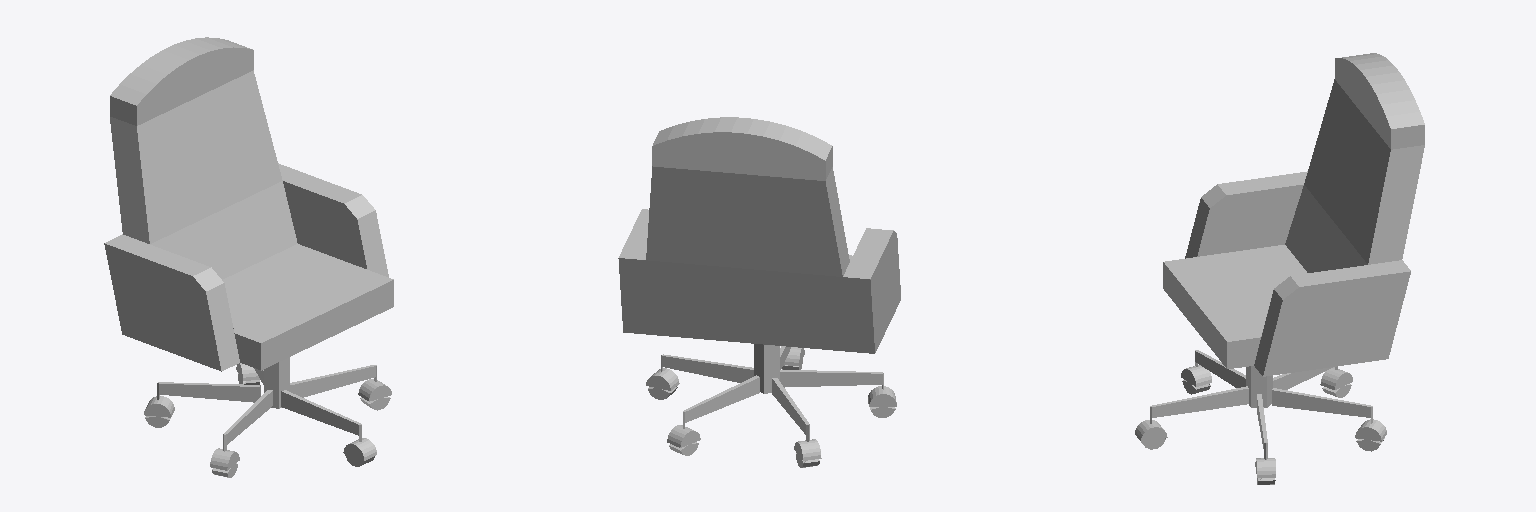
Rendered from silla.obj.
3 renders of one model, left to right at view 1: azimuth 30°, elevation 25°; view 2: azimuth 150°, elevation 25°; view 3: azimuth 270°, elevation 25°, orthographic.
Visible parts, largest first — view 1: silla:MeshpolySurface1, silla:MeshpolySurface5, silla:MeshpolySurface10, silla:MeshpolySurface4, silla:MeshpolySurface7, silla:MeshpolySurface8; view 2: silla:MeshpolySurface1, silla:MeshpolySurface7, silla:MeshpolySurface4, silla:MeshpolySurface12, silla:MeshpolySurface8, silla:MeshpolySurface5; view 3: silla:MeshpolySurface1, silla:MeshpolySurface12, silla:MeshpolySurface10, silla:MeshpolySurface8, silla:MeshpolySurface7, silla:MeshpolySurface5.
Boxes of the visible parts, box(x1,y1,x2,y2) form: silla:MeshpolySurface1: box(104, 37, 393, 371); silla:MeshpolySurface5: box(157, 382, 260, 402); silla:MeshpolySurface10: box(281, 390, 361, 441); silla:MeshpolySurface4: box(290, 365, 376, 397); silla:MeshpolySurface7: box(223, 390, 272, 451); silla:MeshpolySurface8: box(264, 357, 289, 408); silla:MeshpolySurface1: box(618, 117, 900, 353); silla:MeshpolySurface7: box(780, 370, 883, 389); silla:MeshpolySurface4: box(661, 354, 753, 382); silla:MeshpolySurface12: box(683, 375, 759, 428); silla:MeshpolySurface8: box(754, 344, 779, 393); silla:MeshpolySurface5: box(772, 378, 809, 441); silla:MeshpolySurface1: box(1163, 53, 1424, 376); silla:MeshpolySurface12: box(1272, 388, 1372, 423); silla:MeshpolySurface10: box(1150, 386, 1248, 423); silla:MeshpolySurface8: box(1246, 366, 1272, 407); silla:MeshpolySurface7: box(1195, 350, 1245, 387); silla:MeshpolySurface5: box(1273, 366, 1337, 389).
Bounding box in the file's own units: 0.8912 × 1.16 × 0.8815.